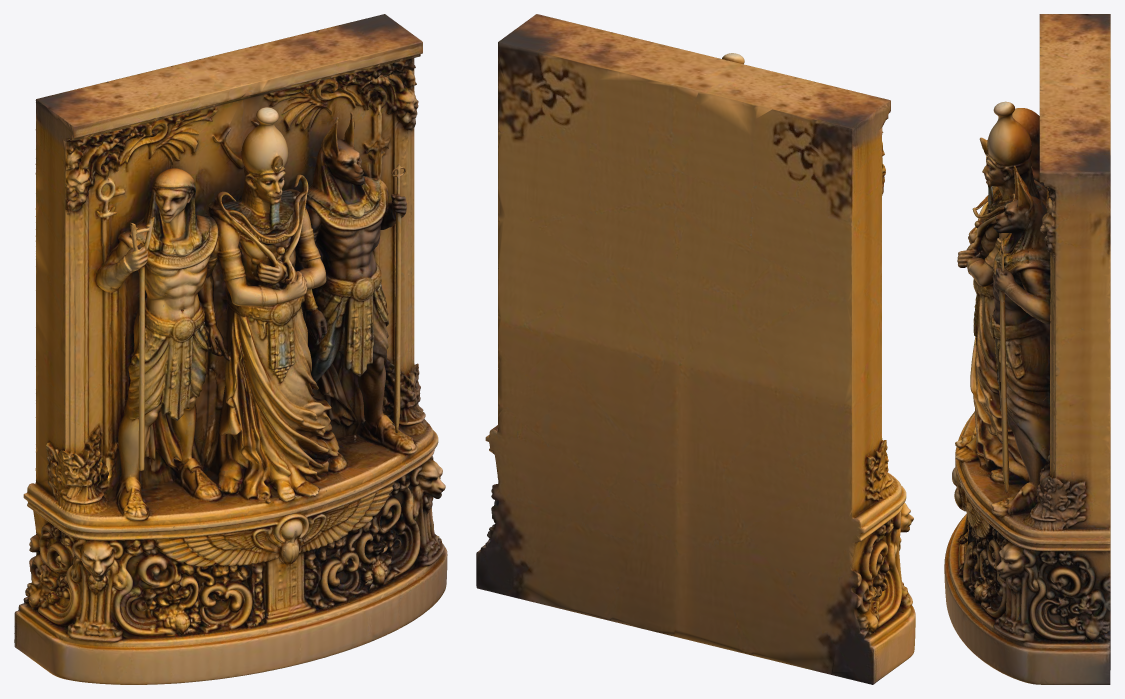
File: Meshy_AI_Egyptian_Triad_0310040532_texture.glb
The picture shows the model from 3 angles, left to right: view 1: azimuth 30°, elevation 25°; view 2: azimuth 150°, elevation 25°; view 3: azimuth 270°, elevation 25°; orthographic projection. The views are drawn at different scales.
Bounding box in the file's own units: 1.51 × 2 × 0.5976.
Materials: 1 (1 with a texture image).
